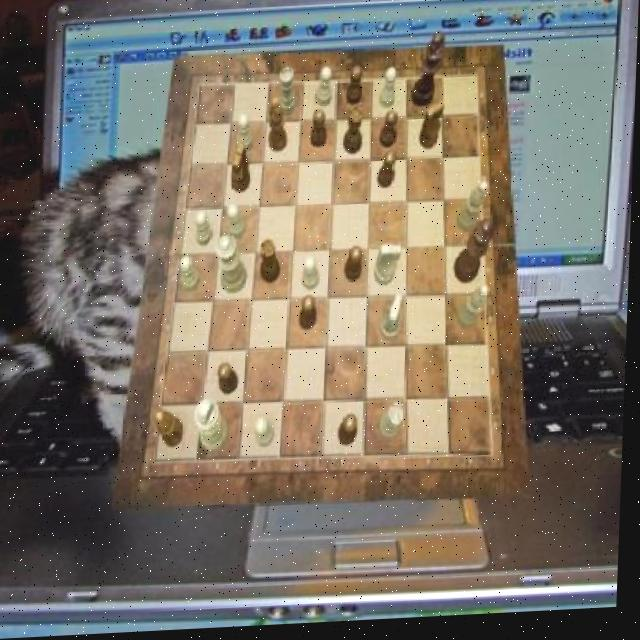bishop: (157, 410, 188, 450), (270, 99, 289, 154)
black-bishop: (411, 36, 446, 111)
black-king: (420, 106, 446, 155), (232, 145, 252, 197)
black-knight: (378, 154, 398, 193), (220, 366, 242, 400), (380, 114, 399, 153), (346, 250, 365, 285), (311, 113, 328, 152), (346, 71, 363, 110), (341, 418, 361, 450), (300, 299, 318, 334)
black-pawn: (454, 224, 496, 290)
black-queen: (343, 111, 364, 160), (260, 242, 282, 287)
black-rook: (458, 186, 490, 238), (458, 290, 492, 334)
white-bishop: (195, 399, 233, 455)
white-king: (375, 248, 403, 291), (381, 298, 405, 345)
white-knight: (180, 257, 202, 294), (379, 71, 397, 114), (195, 212, 215, 249), (227, 205, 248, 240), (316, 71, 333, 111), (238, 117, 255, 156), (256, 419, 276, 451), (304, 259, 322, 294)
white-pawn: (217, 235, 251, 297)
white-queen: (381, 408, 408, 446), (280, 71, 299, 119)
